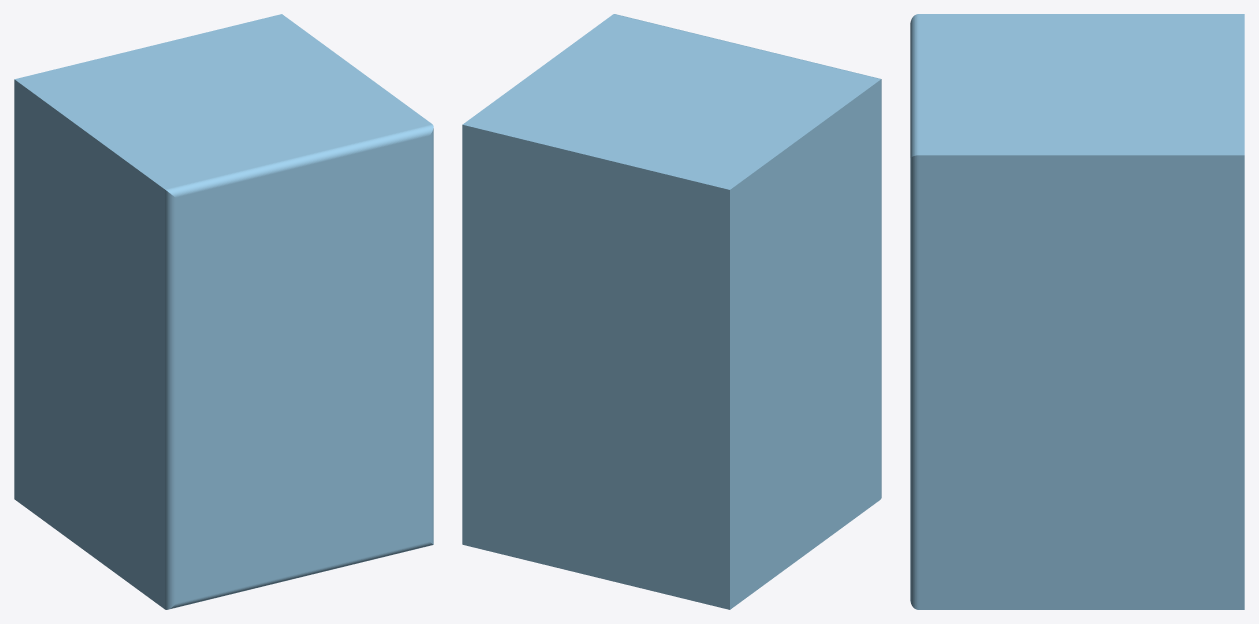
File: button.dae
3 renders of one model, left to right at view 1: azimuth 30°, elevation 25°; view 2: azimuth 150°, elevation 25°; view 3: azimuth 270°, elevation 25°, orthographic. The views are drawn at different scales.
Visible parts, largest first — view 1: 5e752e764a6c1114430a342d; view 2: 5e752e764a6c1114430a342d; view 3: 5e752e764a6c1114430a342d.
Boxes of the visible parts, x1,y1,x2,y2 form: 5e752e764a6c1114430a342d: (14,14,433,609); 5e752e764a6c1114430a342d: (462,14,881,609); 5e752e764a6c1114430a342d: (910,14,1244,609).
Bounding box in the file's own units: 0.2 × 0.2 × 0.3.
